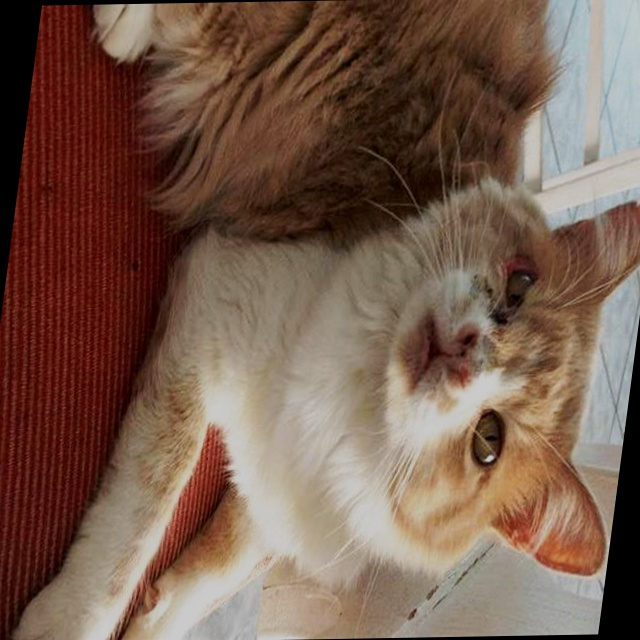eye_infection: (495, 260, 548, 311)
